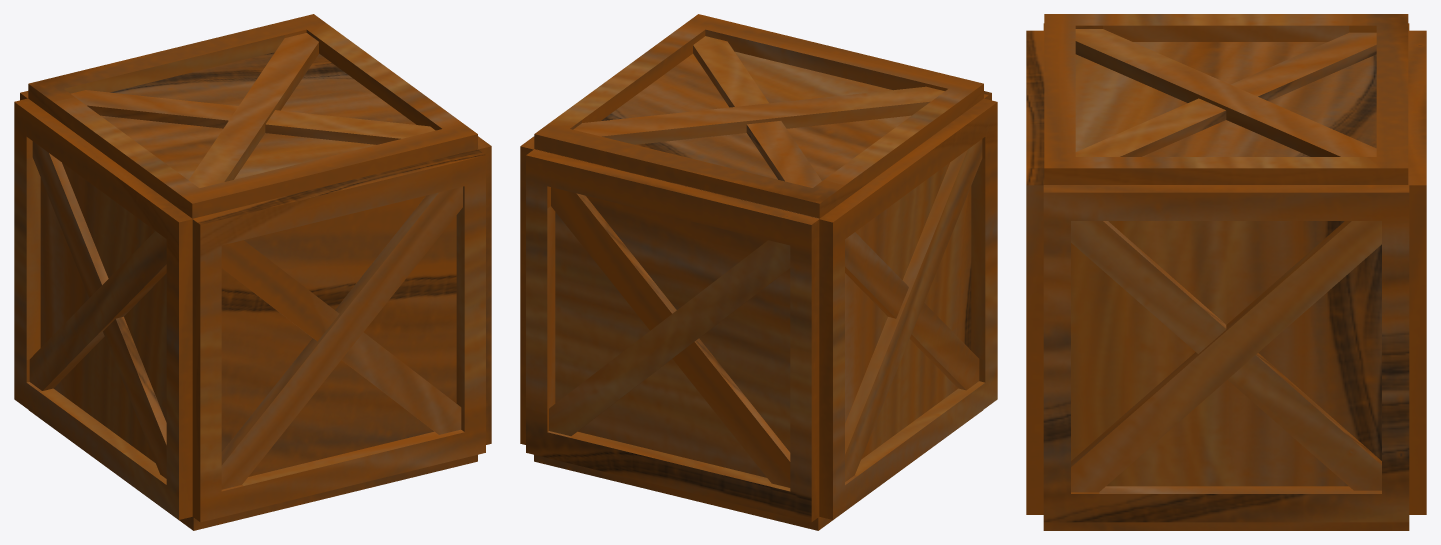
The model's file is WoodenBox.glb.
3 views of the same model, side by side, from view 1: azimuth 30°, elevation 25°; view 2: azimuth 150°, elevation 25°; view 3: azimuth 270°, elevation 25° (orthographic). The views are drawn at different scales.
Parts seen in each view (by area): view 1: WoodenBox; view 2: WoodenBox; view 3: WoodenBox.
Boxes of the visible parts, x1,y1,x2,y2 form: WoodenBox: (14, 14, 491, 530); WoodenBox: (520, 14, 997, 530); WoodenBox: (1026, 14, 1426, 530).
Bounding box in the file's own units: 2.2 × 2.2 × 2.2.
Materials: 1 (1 with a texture image).
